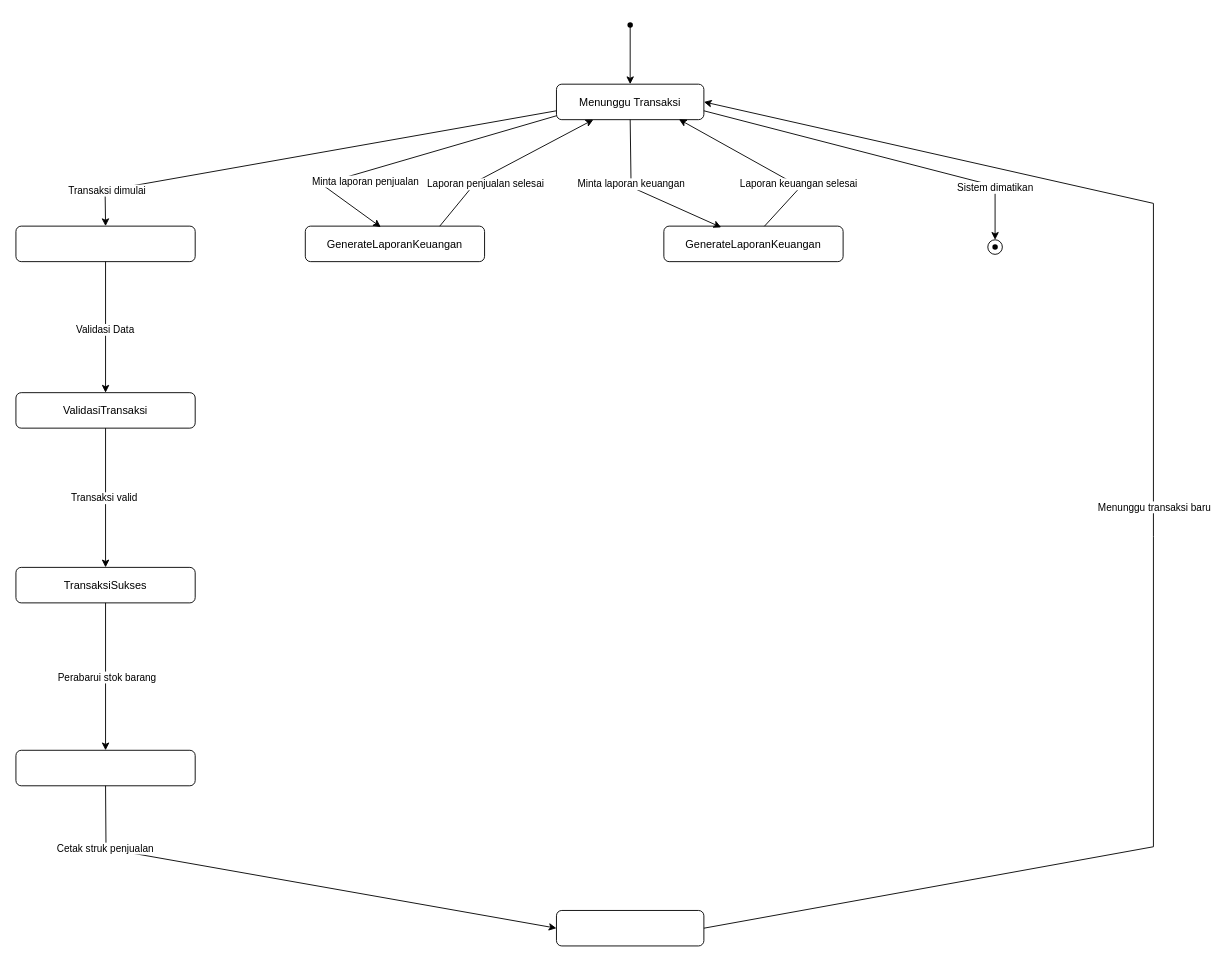
The diagram is 1226 pixels wide and 962 high, and some of its shapes have lost their labels. Each missing label, with the centre of its shape:
"CetakStruk" goes at point 630,928.
"TransaksiDilakukan" goes at point 105,243.
"UpdateStok" goes at point 105,767.
